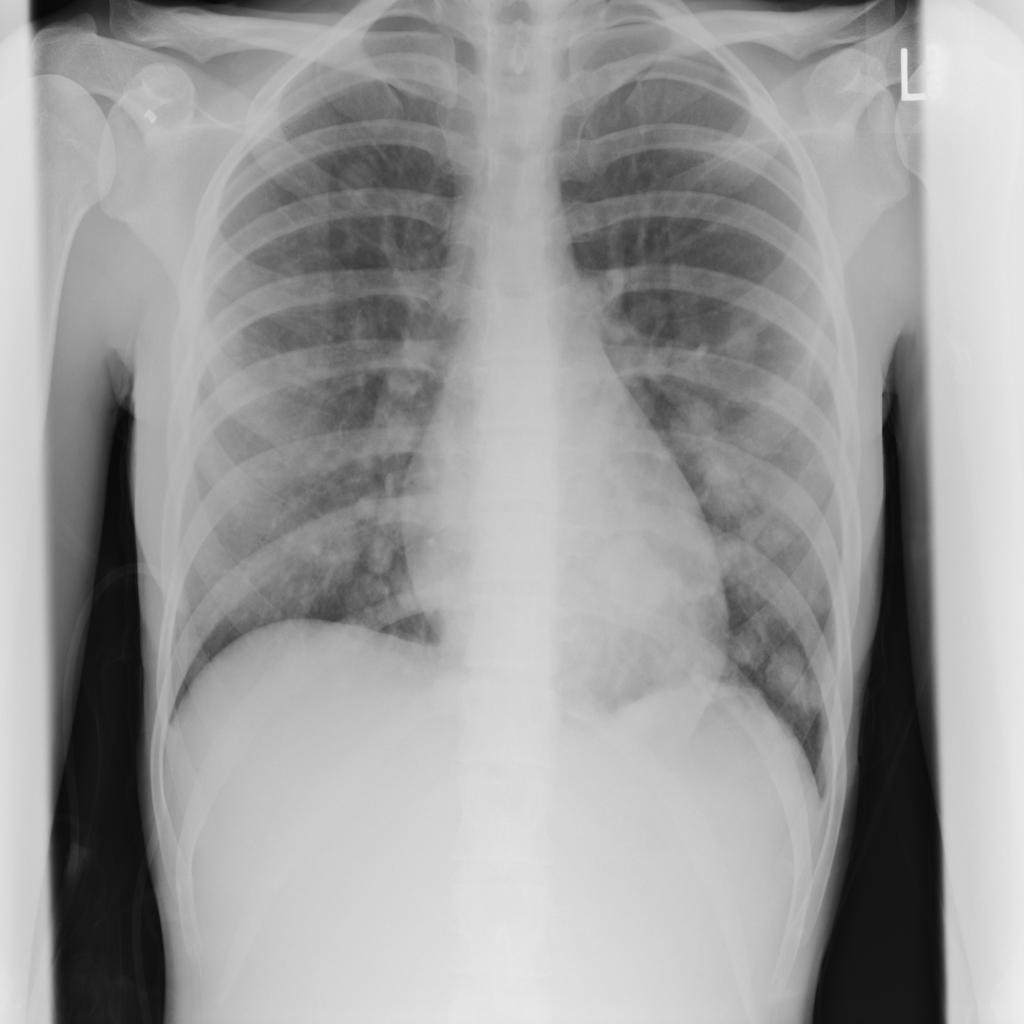nodule: (261, 490, 374, 600), (578, 528, 696, 631), (692, 441, 763, 518), (709, 303, 777, 380), (661, 386, 724, 467), (762, 639, 828, 716), (326, 142, 395, 213), (736, 506, 804, 573), (723, 615, 774, 669), (265, 248, 320, 298)
